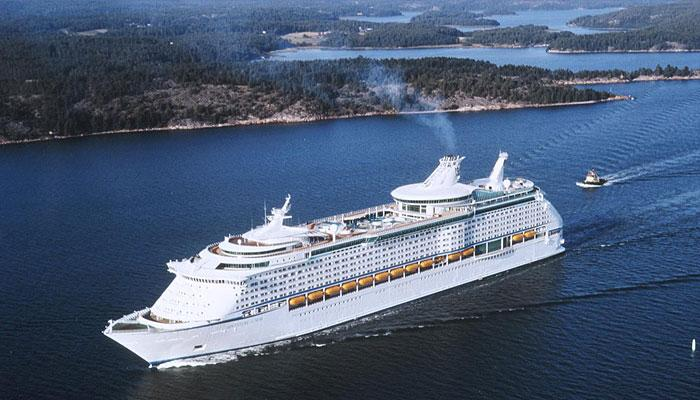otherboat: (579, 167, 618, 191)
youlun: (97, 145, 570, 364)
